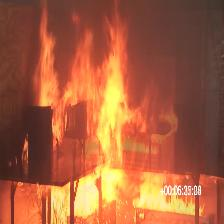fire: (37, 1, 203, 224)
